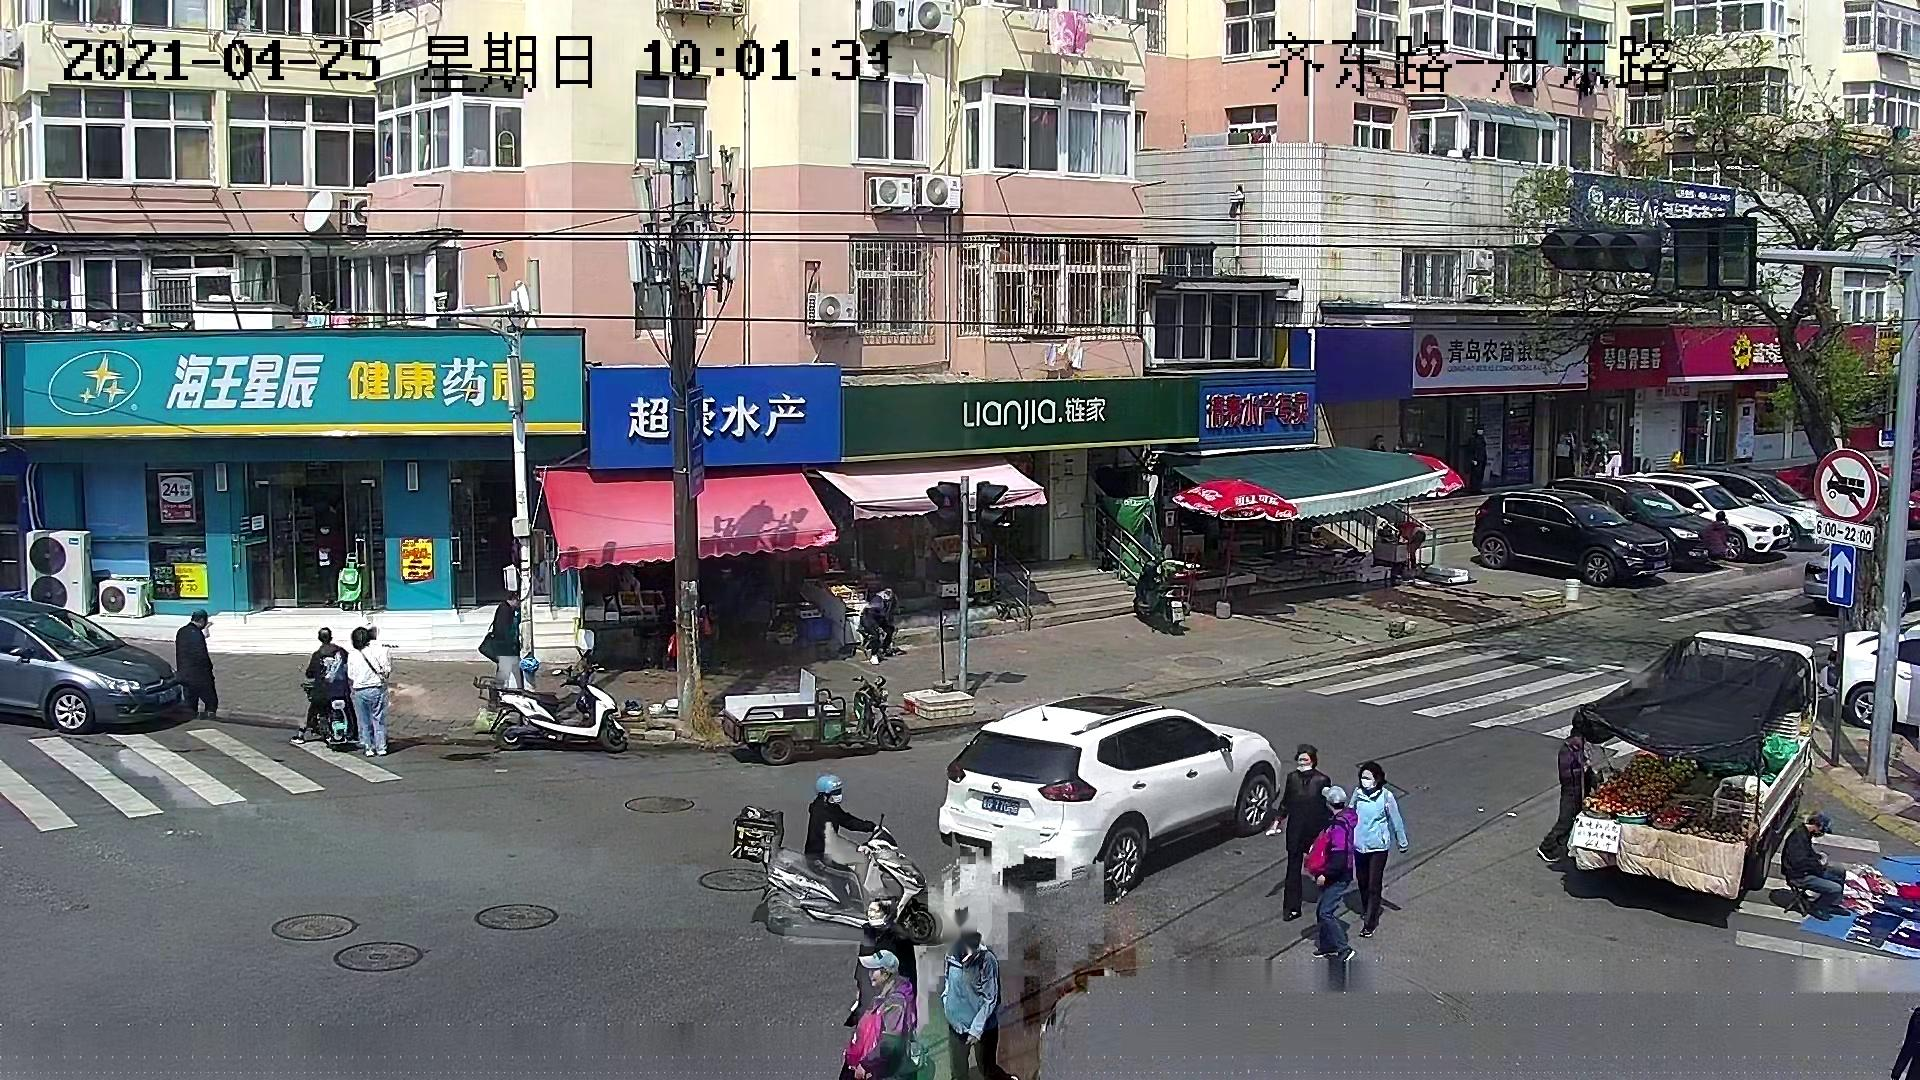chair: (1783, 880, 1811, 916)
umbrella: (1168, 479, 1302, 522), (1407, 452, 1464, 497)
